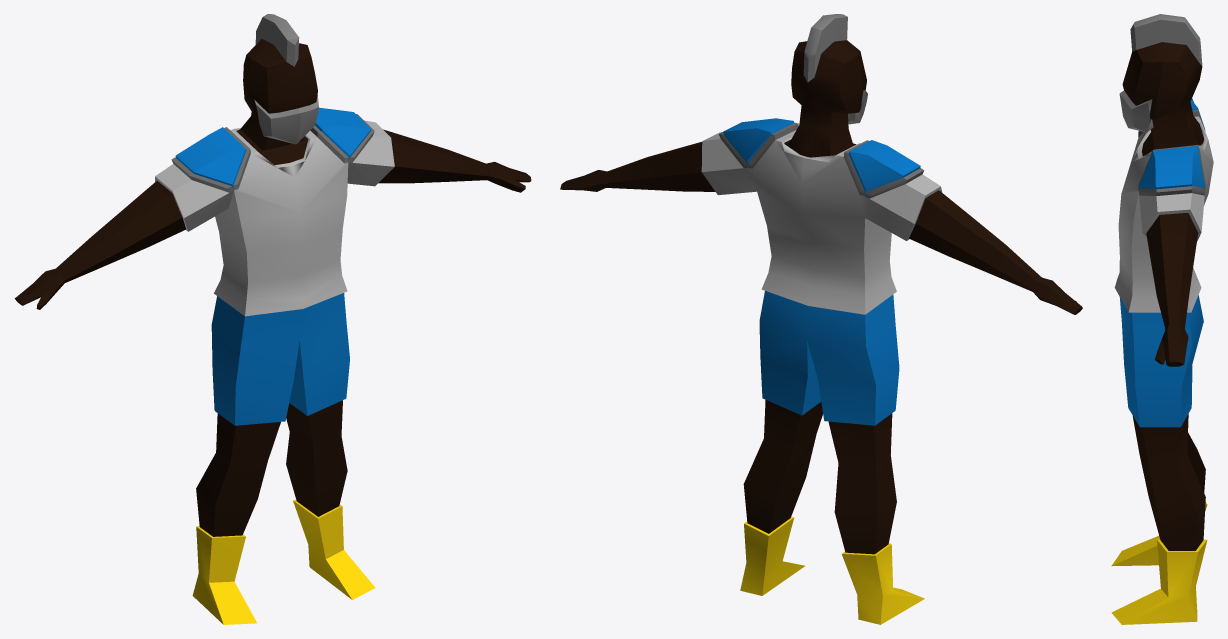
3 renders of one model, left to right at view 1: azimuth 30°, elevation 25°; view 2: azimuth 150°, elevation 25°; view 3: azimuth 270°, elevation 25°, orthographic.
Parts seen in each view (by area): view 1: Personaje; view 2: Personaje; view 3: Personaje.
Boxes of the visible parts, x1,y1,x2,y2 form: Personaje: (14,14,531,624); Personaje: (560,14,1082,624); Personaje: (1111,14,1213,624).
Bounding box in the file's own units: 1.3 × 1.4 × 0.226.
